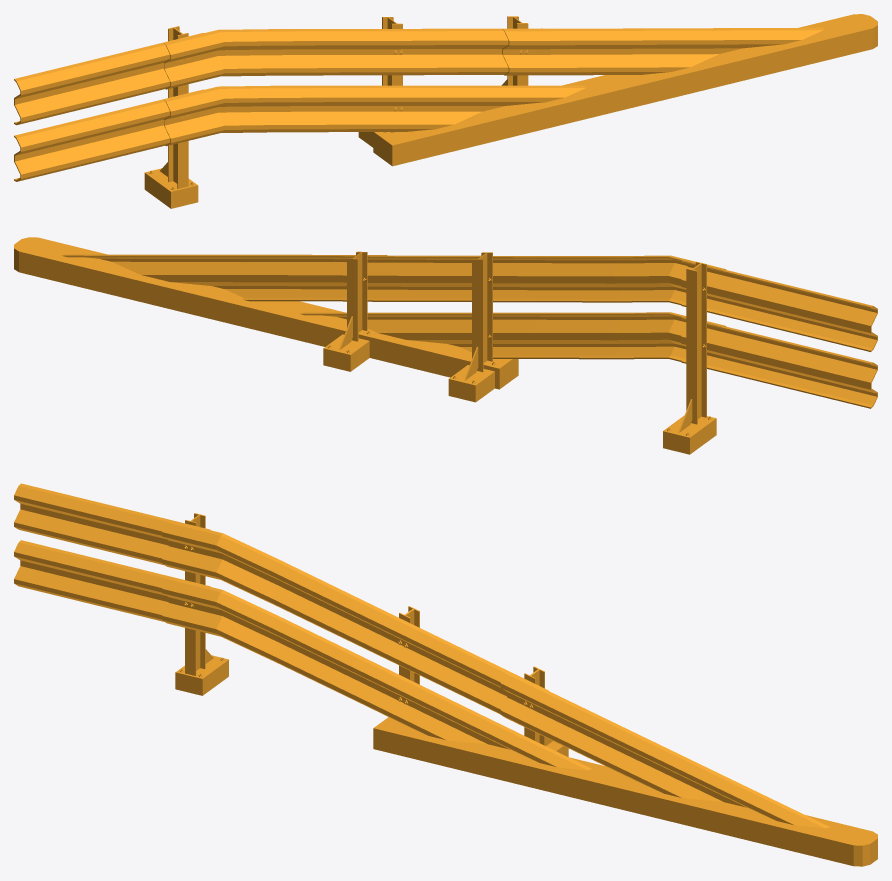
The model's file is SM_Fence_Road_WBeam_Double_Metal_6m_End.fbx.
The picture shows the model from 3 angles, top to bottom: view 1: azimuth 30°, elevation 25°; view 2: azimuth 150°, elevation 25°; view 3: azimuth 330°, elevation 25°; orthographic projection.
Visible parts, largest first — view 1: SM_Fence_Road_WBeam_Double_Metal_6m_End; view 2: SM_Fence_Road_WBeam_Double_Metal_6m_End; view 3: SM_Fence_Road_WBeam_Double_Metal_6m_End.
Boxes of the visible parts, x1,y1,x2,y2 form: SM_Fence_Road_WBeam_Double_Metal_6m_End: [14, 14, 877, 208]; SM_Fence_Road_WBeam_Double_Metal_6m_End: [14, 237, 877, 454]; SM_Fence_Road_WBeam_Double_Metal_6m_End: [14, 483, 877, 866].
Size of the model in its own units: 6.33 by 1.2 by 0.4899.
